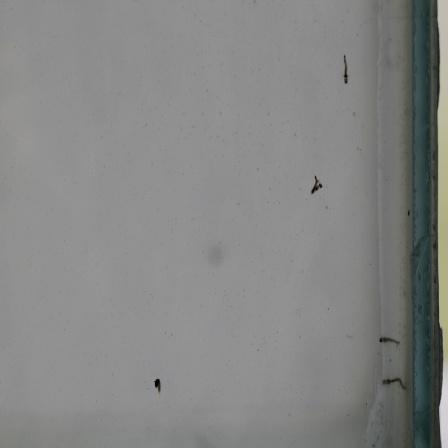Jentik-Nyamuk: (381, 372, 409, 393), (307, 170, 325, 201), (376, 333, 404, 349), (340, 50, 351, 87), (152, 374, 167, 397)
